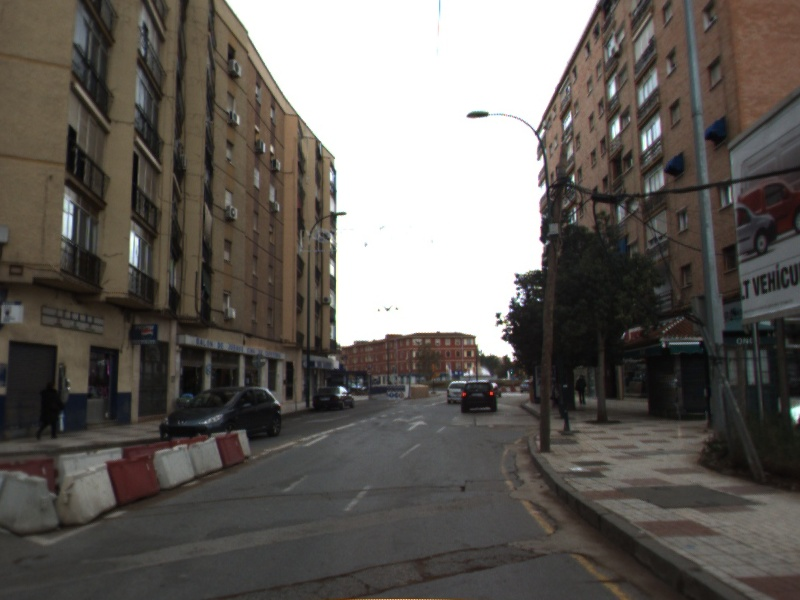STRAIGHT: (405, 419, 431, 432)
STRAIGHT_LEFT: (390, 412, 427, 425)
